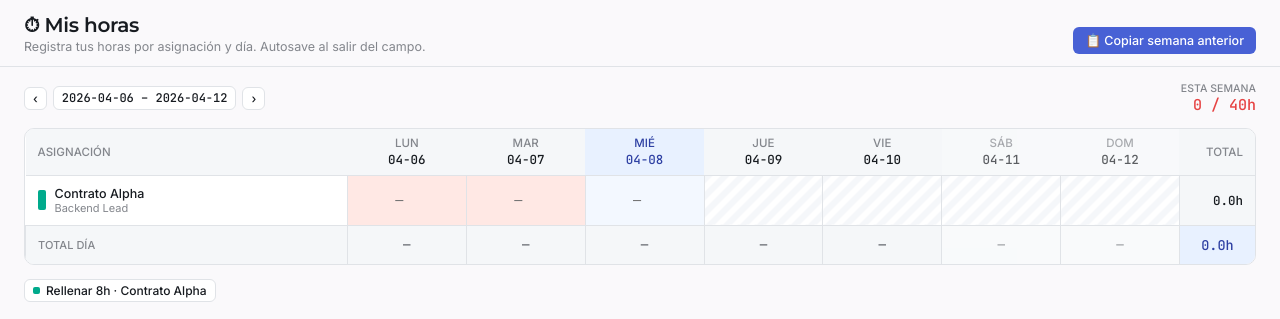
TimeMe › SPEC-011: edición de semana por texto › typing a date and pressing Enter navigates to that Monday
This screenshot has width=1280, height=319.
Expected: the text "Contrato Alpha" is shown, [54, 186, 144, 201]
Click the text named "Semana actual" at [145, 98], box [53, 86, 236, 110]
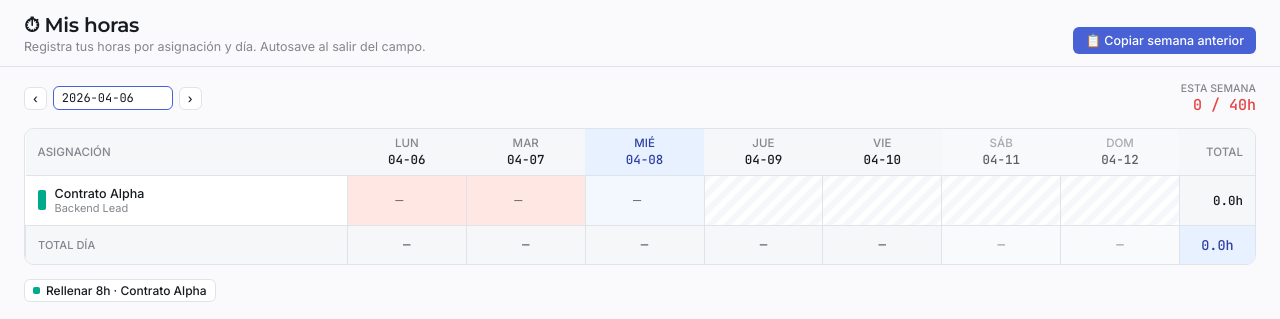
Replace the text in the field named "Seleccionar semana" with "2026-05-07" at [113, 98], box [53, 86, 173, 110]
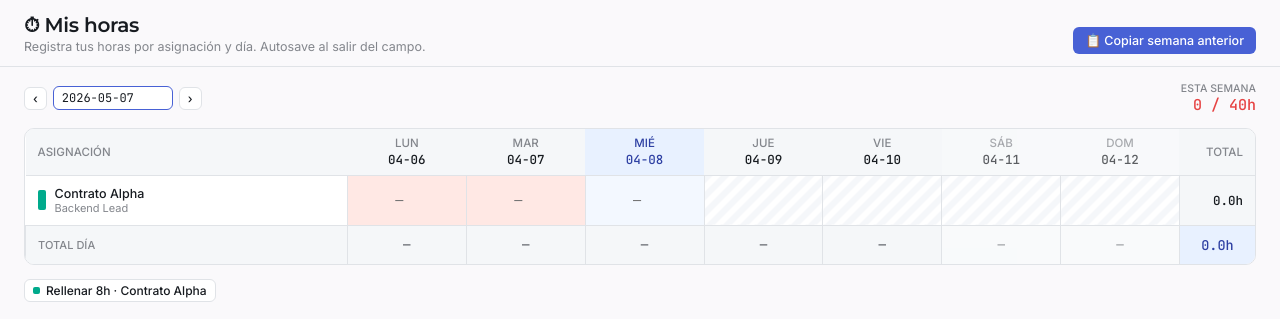
Press Enter in the field named "Seleccionar semana", box [53, 86, 173, 110]
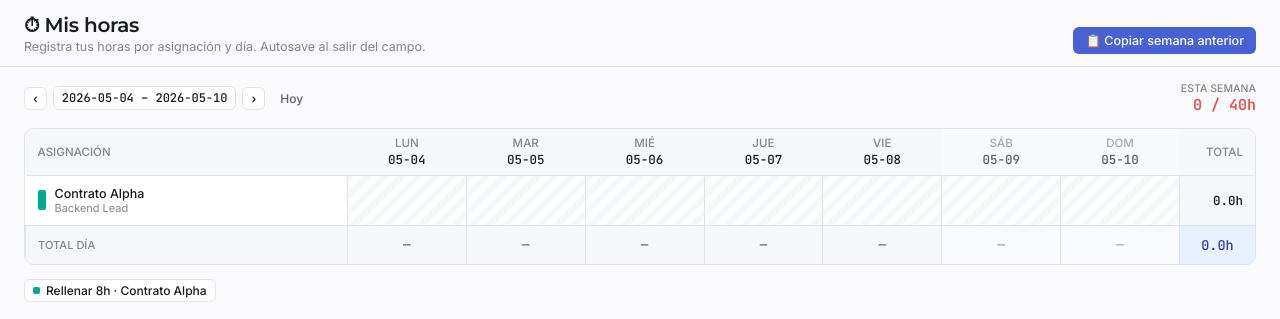
Expected: the text "2026-05-04 – 2026-05-10" is shown, [53, 86, 236, 110]
